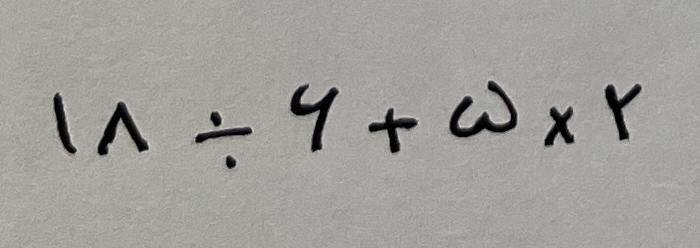character: (449, 80, 517, 139), (290, 83, 340, 154), (195, 111, 254, 168), (97, 101, 149, 156), (368, 107, 417, 154), (605, 84, 641, 141), (53, 93, 77, 153), (543, 106, 573, 147)
